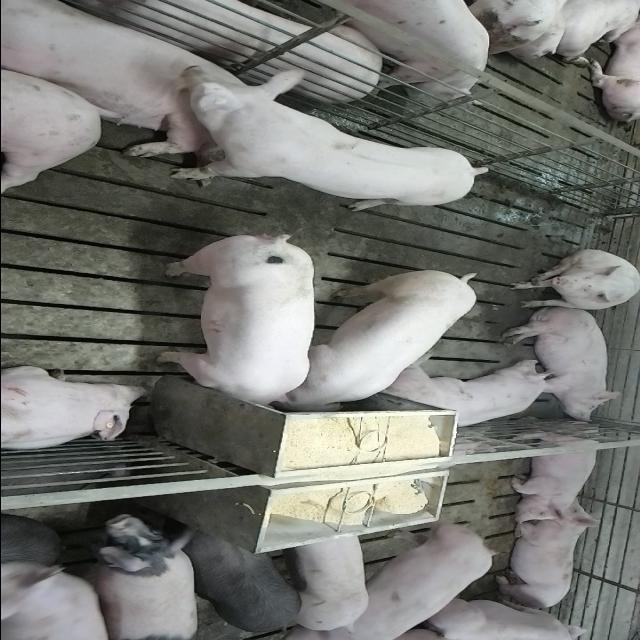Feeding: (274, 264, 480, 412), (154, 239, 316, 417)
Lateral_lying: (498, 306, 624, 424)
Sitting: (506, 250, 638, 312)
Standing: (152, 66, 484, 212), (333, 520, 498, 638), (292, 0, 486, 98), (178, 526, 306, 636), (90, 514, 198, 638), (2, 560, 118, 638), (290, 530, 370, 632)
Sternal_lying: (6, 0, 270, 148), (382, 362, 570, 433), (0, 365, 151, 453), (491, 508, 601, 612), (505, 423, 605, 523)
